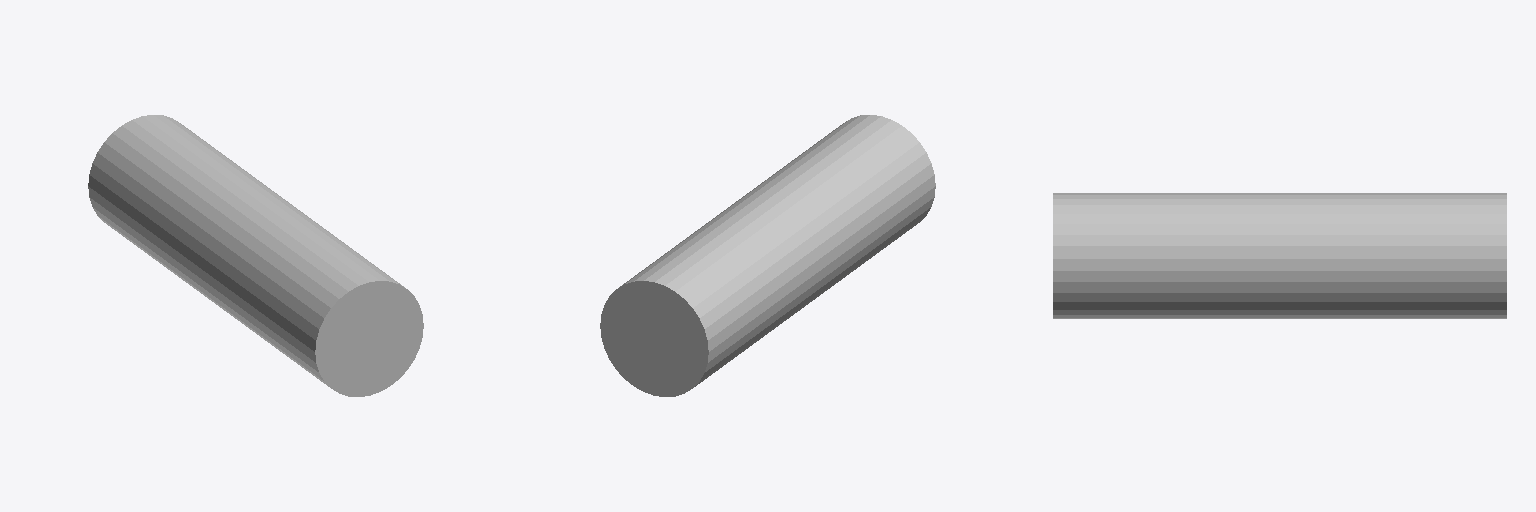
Rendered from VerbindungsstueckS4.obj.
3 views of the same model, side by side, from view 1: azimuth 30°, elevation 25°; view 2: azimuth 150°, elevation 25°; view 3: azimuth 270°, elevation 25° (orthographic).
Visible parts, largest first — view 1: Verbindungsstück_S.004_Cylinder.027; view 2: Verbindungsstück_S.004_Cylinder.027; view 3: Verbindungsstück_S.004_Cylinder.027.
Part boxes in pixels (bbox=[...]): Verbindungsstück_S.004_Cylinder.027: bbox=[88, 115, 423, 396]; Verbindungsstück_S.004_Cylinder.027: bbox=[600, 115, 935, 396]; Verbindungsstück_S.004_Cylinder.027: bbox=[1053, 193, 1506, 318].
Bounding box in the file's own units: 0.2335 × 0.2335 × 0.8463.